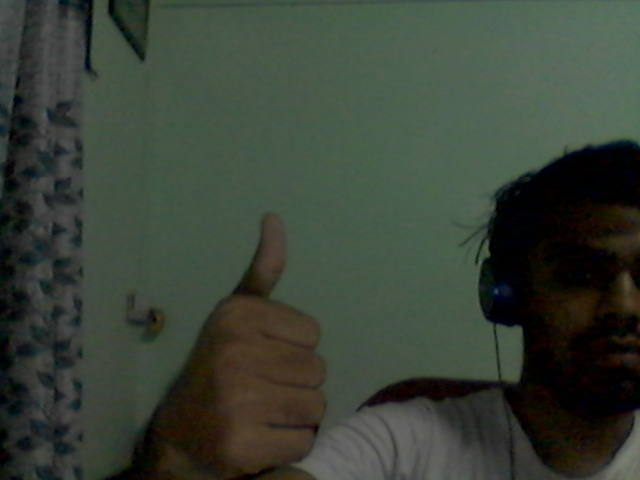Yes: (125, 194, 386, 480)
